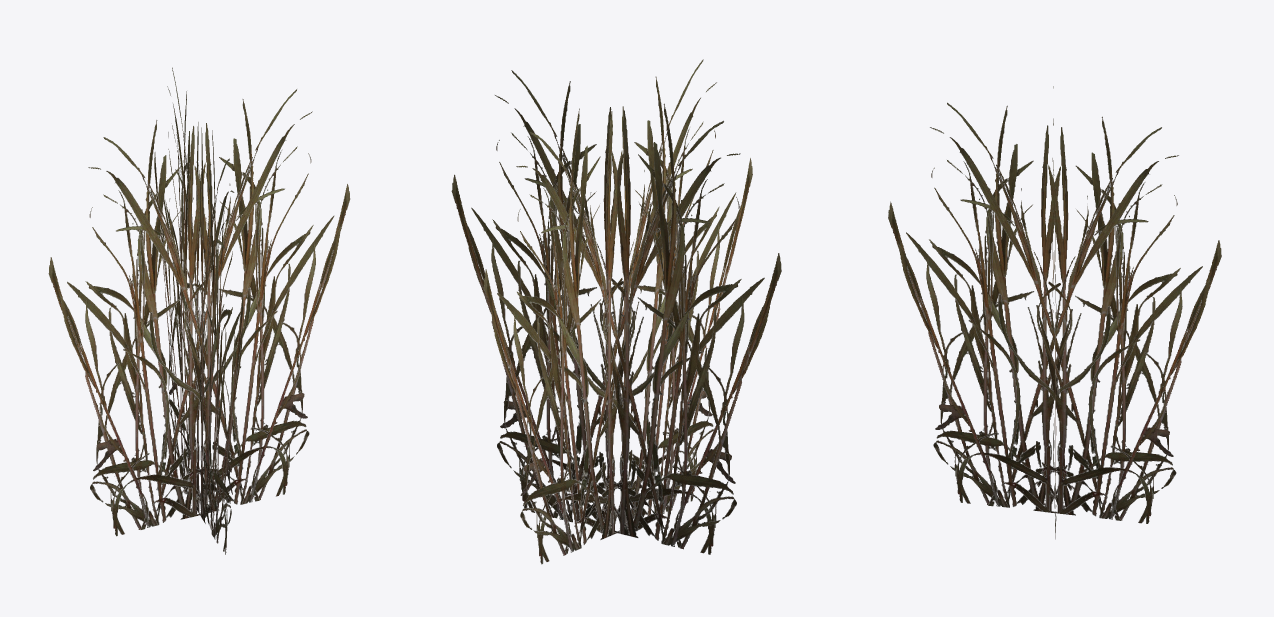
The model's file is Grass_dry_.FBX.
The picture shows the model from 3 angles, left to right: view 1: azimuth 30°, elevation 25°; view 2: azimuth 150°, elevation 25°; view 3: azimuth 270°, elevation 25°; orthographic projection. The views are drawn at different scales.
Visible parts, largest first — view 1: Grass_dry_; view 2: Grass_dry_; view 3: Grass_dry_.
Part boxes in pixels (<box>): Grass_dry_: <box>48,67,350,554</box>; Grass_dry_: <box>451,59,781,564</box>; Grass_dry_: <box>888,86,1221,539</box>.
Bounding box in the file's own units: 36.24 × 38.53 × 35.05.
1 material, 1 textured.
